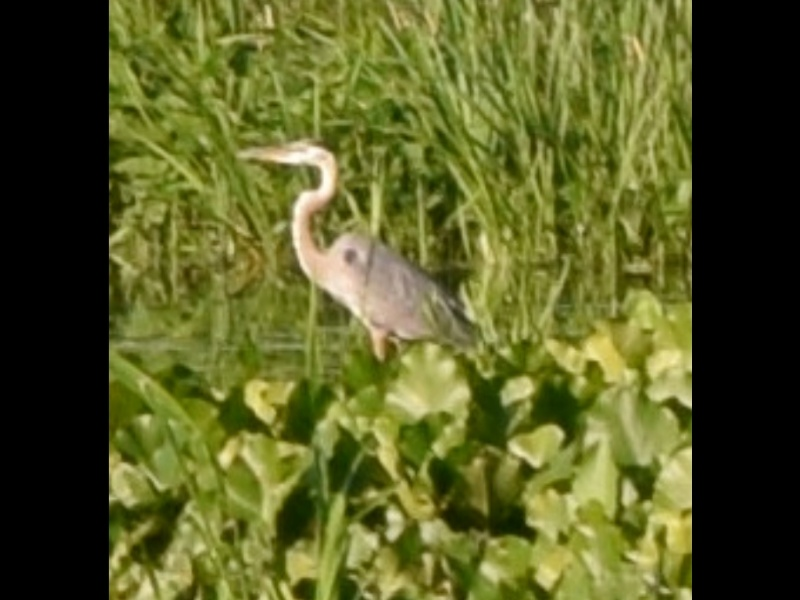heron: (234, 138, 476, 372)
